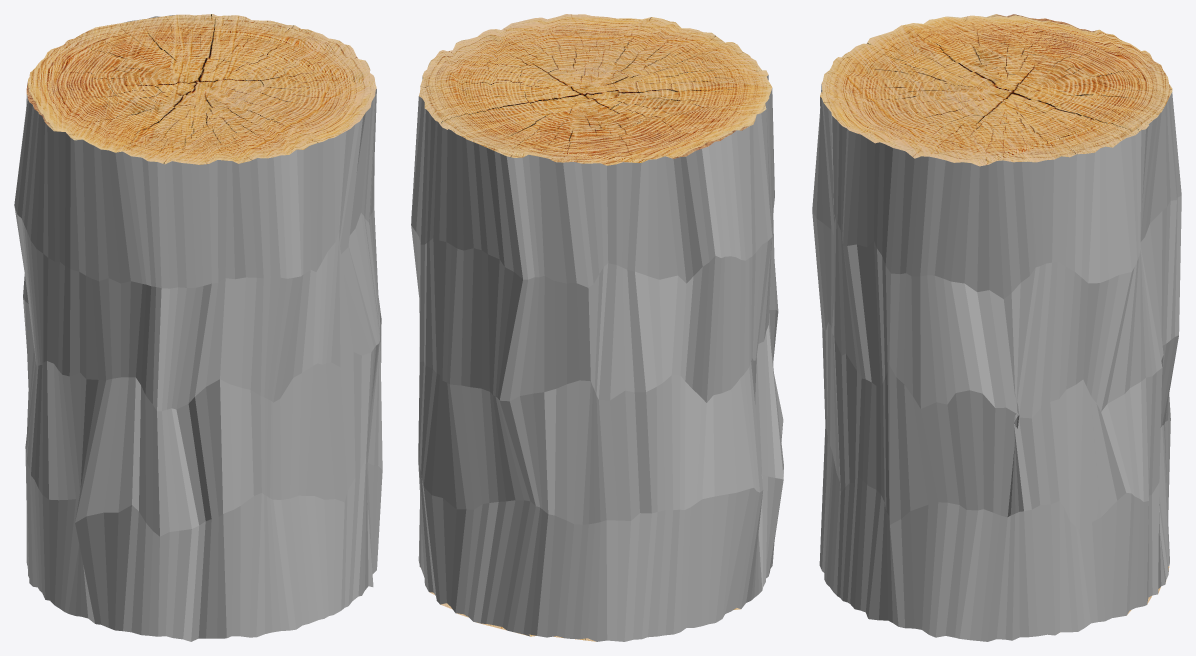
Rendered from Tree log seat.fbx.
3 renders of one model, left to right at view 1: azimuth 30°, elevation 25°; view 2: azimuth 150°, elevation 25°; view 3: azimuth 270°, elevation 25°, orthographic.
Visible parts, largest first — view 1: Cylinder; view 2: Cylinder; view 3: Cylinder.
Boxes of the visible parts, <box> form: Cylinder: <box>14,14,382,641</box>; Cylinder: <box>411,14,783,641</box>; Cylinder: <box>812,14,1181,641</box>.
Size of the model in its own units: 2.1 by 3.04 by 2.11.
